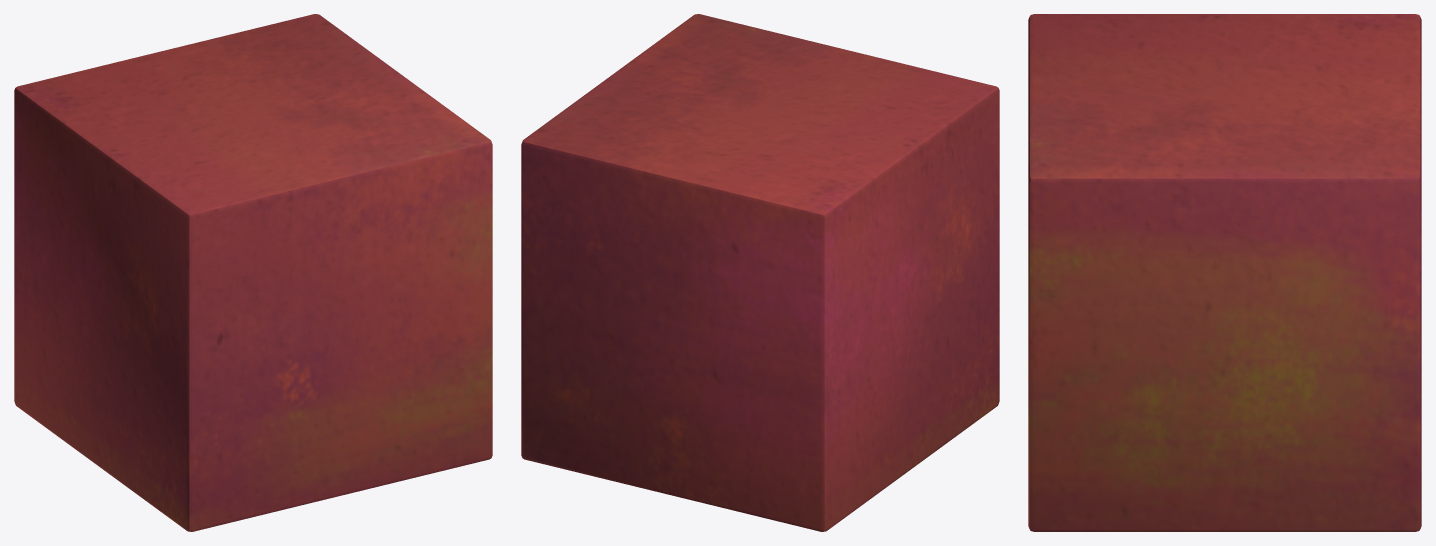
File: TEMPLE_GROUND_001.obj
The picture shows the model from 3 angles, left to right: view 1: azimuth 30°, elevation 25°; view 2: azimuth 150°, elevation 25°; view 3: azimuth 270°, elevation 25°; orthographic projection. The views are drawn at different scales.
Parts seen in each view (by area): view 1: TEMPLE_GROUND_001; view 2: TEMPLE_GROUND_001; view 3: TEMPLE_GROUND_001.
Boxes of the visible parts, bbox=[...] form: TEMPLE_GROUND_001: bbox=[14, 14, 492, 531]; TEMPLE_GROUND_001: bbox=[521, 14, 999, 531]; TEMPLE_GROUND_001: bbox=[1028, 14, 1421, 531].
Size of the model in its own units: 1 by 1 by 1.
